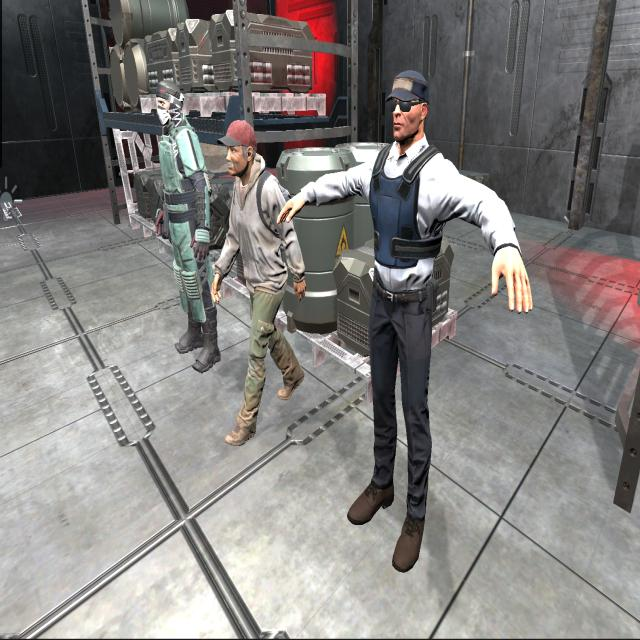thiefs: (204, 108, 317, 459)
